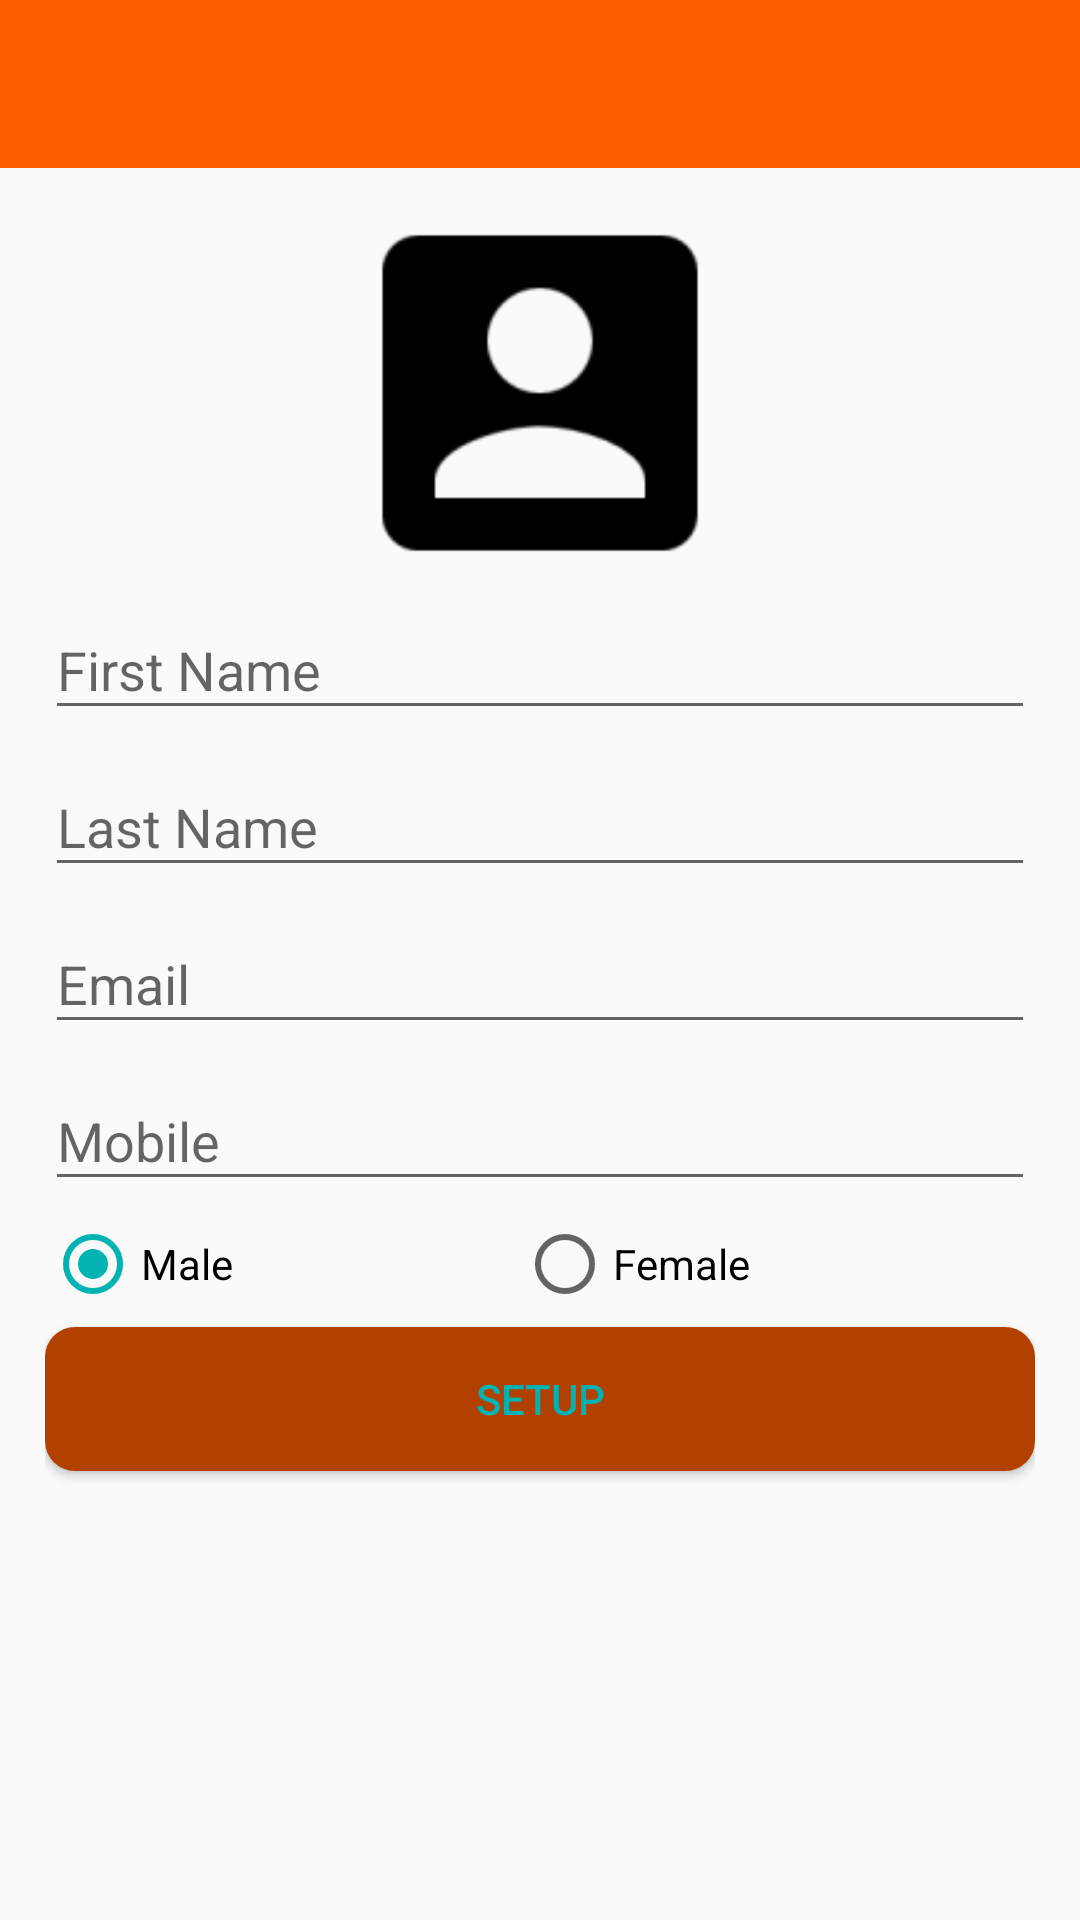

Icons on this 1080 x 1920 Android screen, each with the point to tap as (x=x, y=y):
user: (x=540, y=393)
